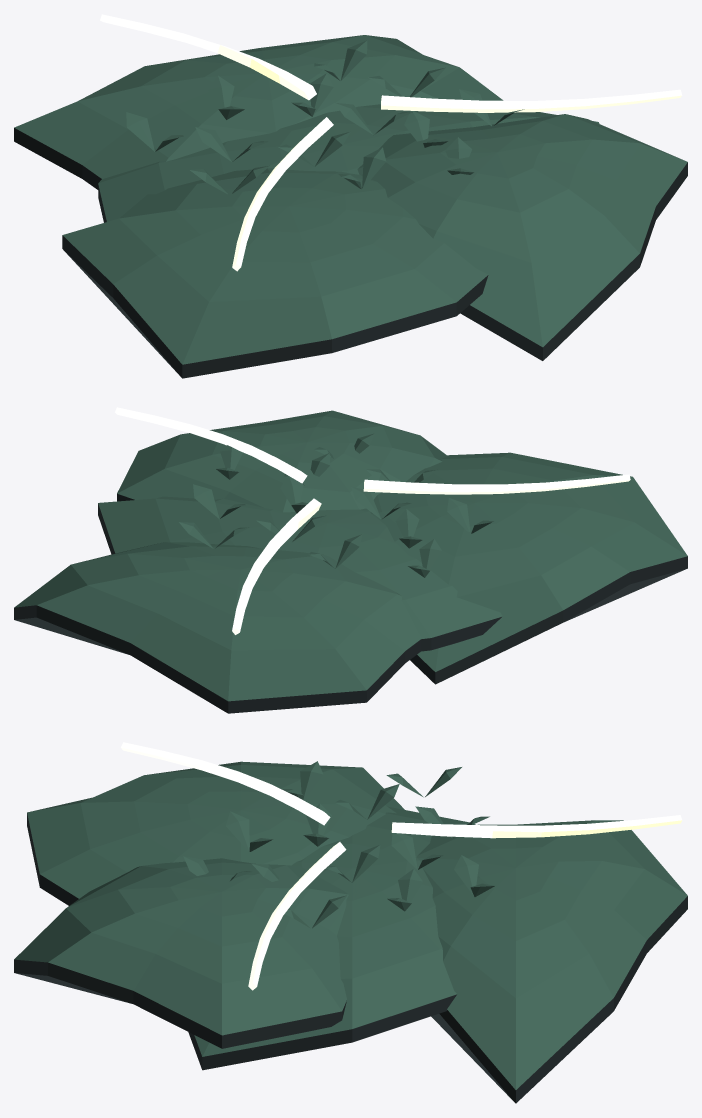
Rendered from GLOW_MOSS_PATCH.lo.glb.
3 renders of one model, top to bottom at view 1: azimuth 30°, elevation 25°; view 2: azimuth 150°, elevation 25°; view 3: azimuth 270°, elevation 25°, orthographic. The views are drawn at different scales.
Visible parts, largest first — view 1: GLOW_MOSS_PATCH; view 2: GLOW_MOSS_PATCH; view 3: GLOW_MOSS_PATCH.
Part boxes in pixels (x1,y1,x2,y2): GLOW_MOSS_PATCH: (14,14,687,378); GLOW_MOSS_PATCH: (14,407,687,713); GLOW_MOSS_PATCH: (14,742,687,1103).
Size of the model in its own units: 0.3887 by 0.1024 by 0.4103.
Materials: 1 (1 with a texture image).
